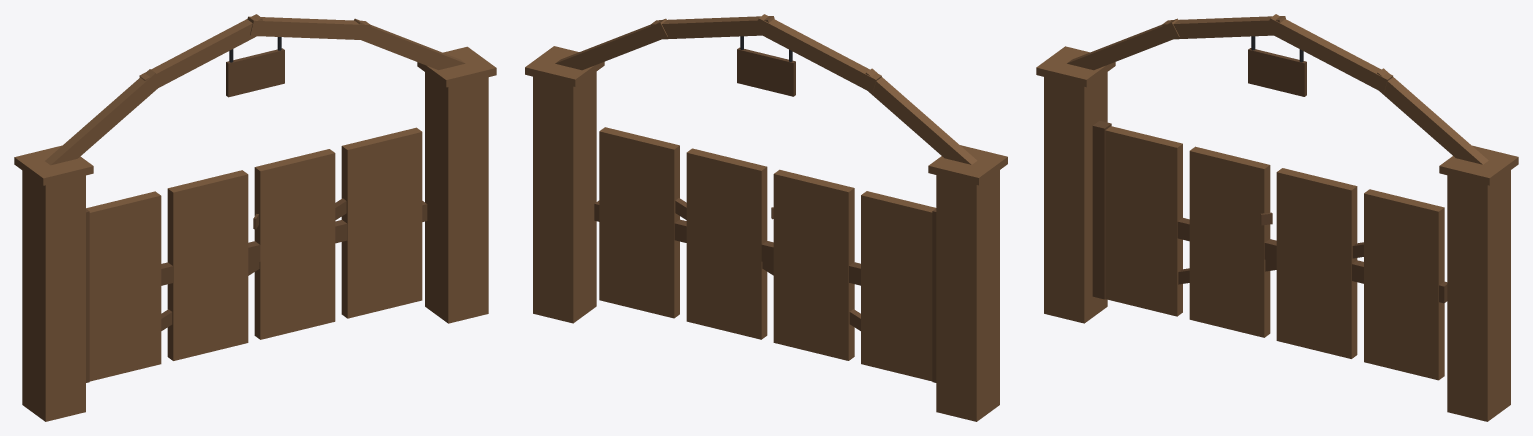
File: SM_Fence_TavernPicket_02_Gate.glb
3 views of the same model, side by side, from view 1: azimuth 30°, elevation 25°; view 2: azimuth 150°, elevation 25°; view 3: azimuth 330°, elevation 25° (orthographic).
Visible parts, largest first — view 1: SM_Fence_TavernPicket_02_Gate_PostHinge, SM_Fence_TavernPicket_02_Gate_PostLatch, SM_Fence_TavernPicket_02_Gate_Leaf_Plank1, SM_Fence_TavernPicket_02_Gate_Leaf_Plank3, SM_Fence_TavernPicket_02_Gate_Leaf_Plank2, SM_Fence_TavernPicket_02_Gate_Leaf_Plank0, SM_Fence_TavernPicket_02_Gate_Arch0, SM_Fence_TavernPicket_02_Gate_Arch2, SM_Fence_TavernPicket_02_Gate_Arch1, SM_Fence_TavernPicket_02_Gate_SignBoard, SM_Fence_TavernPicket_02_Gate_Arch3, SM_Fence_TavernPicket_02_Gate_PostHinge_Cap (+4 smaller); view 2: SM_Fence_TavernPicket_02_Gate_PostHinge, SM_Fence_TavernPicket_02_Gate_PostLatch, SM_Fence_TavernPicket_02_Gate_Leaf_Plank2, SM_Fence_TavernPicket_02_Gate_Leaf_Plank1, SM_Fence_TavernPicket_02_Gate_Leaf_Plank3, SM_Fence_TavernPicket_02_Gate_Leaf_Plank0, SM_Fence_TavernPicket_02_Gate_Arch1, SM_Fence_TavernPicket_02_Gate_Arch0, SM_Fence_TavernPicket_02_Gate_SignBoard, SM_Fence_TavernPicket_02_Gate_Arch2, SM_Fence_TavernPicket_02_Gate_Arch3, SM_Fence_TavernPicket_02_Gate_PostHinge_Cap (+4 smaller); view 3: SM_Fence_TavernPicket_02_Gate_PostLatch, SM_Fence_TavernPicket_02_Gate_Leaf_Plank2, SM_Fence_TavernPicket_02_Gate_Leaf_Plank1, SM_Fence_TavernPicket_02_Gate_Leaf_Plank3, SM_Fence_TavernPicket_02_Gate_Leaf_Plank0, SM_Fence_TavernPicket_02_Gate_PostHinge, SM_Fence_TavernPicket_02_Gate_Arch2, SM_Fence_TavernPicket_02_Gate_Leaf, SM_Fence_TavernPicket_02_Gate_Arch3, SM_Fence_TavernPicket_02_Gate_SignBoard, SM_Fence_TavernPicket_02_Gate_Arch1, SM_Fence_TavernPicket_02_Gate_Arch0 (+4 smaller).
Boxes of the visible parts, left/top/right/bottom form: SM_Fence_TavernPicket_02_Gate_PostHinge: left=22, top=170, right=85, bottom=421; SM_Fence_TavernPicket_02_Gate_PostLatch: left=425, top=72, right=488, bottom=323; SM_Fence_TavernPicket_02_Gate_Leaf_Plank1: left=167, top=170, right=248, bottom=360; SM_Fence_TavernPicket_02_Gate_Leaf_Plank3: left=341, top=127, right=422, bottom=318; SM_Fence_TavernPicket_02_Gate_Leaf_Plank2: left=254, top=149, right=335, bottom=339; SM_Fence_TavernPicket_02_Gate_Leaf_Plank0: left=86, top=191, right=161, bottom=381; SM_Fence_TavernPicket_02_Gate_Arch0: left=45, top=69, right=162, bottom=165; SM_Fence_TavernPicket_02_Gate_Arch2: left=247, top=16, right=371, bottom=40; SM_Fence_TavernPicket_02_Gate_Arch1: left=139, top=14, right=262, bottom=87; SM_Fence_TavernPicket_02_Gate_SignBoard: left=226, top=48, right=284, bottom=97; SM_Fence_TavernPicket_02_Gate_Arch3: left=354, top=18, right=465, bottom=70; SM_Fence_TavernPicket_02_Gate_PostHinge_Cap: left=14, top=145, right=93, bottom=185; SM_Fence_TavernPicket_02_Gate_PostHinge: left=936, top=170, right=999, bottom=421; SM_Fence_TavernPicket_02_Gate_PostLatch: left=533, top=71, right=596, bottom=323; SM_Fence_TavernPicket_02_Gate_Leaf_Plank2: left=686, top=148, right=767, bottom=339; SM_Fence_TavernPicket_02_Gate_Leaf_Plank1: left=773, top=169, right=854, bottom=360; SM_Fence_TavernPicket_02_Gate_Leaf_Plank3: left=599, top=127, right=679, bottom=318; SM_Fence_TavernPicket_02_Gate_Leaf_Plank0: left=861, top=191, right=935, bottom=381; SM_Fence_TavernPicket_02_Gate_Arch1: left=755, top=14, right=881, bottom=93; SM_Fence_TavernPicket_02_Gate_Arch0: left=865, top=68, right=977, bottom=164; SM_Fence_TavernPicket_02_Gate_SignBoard: left=737, top=47, right=795, bottom=96; SM_Fence_TavernPicket_02_Gate_Arch2: left=650, top=16, right=774, bottom=39; SM_Fence_TavernPicket_02_Gate_Arch3: left=555, top=18, right=667, bottom=70; SM_Fence_TavernPicket_02_Gate_PostHinge_Cap: left=928, top=145, right=1007, bottom=185; SM_Fence_TavernPicket_02_Gate_PostLatch: left=1447, top=170, right=1510, bottom=421; SM_Fence_TavernPicket_02_Gate_Leaf_Plank2: left=1276, top=168, right=1357, bottom=358; SM_Fence_TavernPicket_02_Gate_Leaf_Plank1: left=1189, top=146, right=1270, bottom=337; SM_Fence_TavernPicket_02_Gate_Leaf_Plank3: left=1364, top=189, right=1444, bottom=380; SM_Fence_TavernPicket_02_Gate_Leaf_Plank0: left=1105, top=126, right=1182, bottom=316; SM_Fence_TavernPicket_02_Gate_PostHinge: left=1044, top=72, right=1107, bottom=323; SM_Fence_TavernPicket_02_Gate_Arch2: left=1266, top=14, right=1392, bottom=92; SM_Fence_TavernPicket_02_Gate_Leaf: left=1092, top=120, right=1111, bottom=299; SM_Fence_TavernPicket_02_Gate_Arch3: left=1377, top=68, right=1488, bottom=164; SM_Fence_TavernPicket_02_Gate_SignBoard: left=1248, top=48, right=1306, bottom=96; SM_Fence_TavernPicket_02_Gate_Arch1: left=1162, top=16, right=1285, bottom=39; SM_Fence_TavernPicket_02_Gate_Arch0: left=1067, top=18, right=1179, bottom=70.
Bounding box in the file's own units: 2.25 × 1.62 × 0.25.
